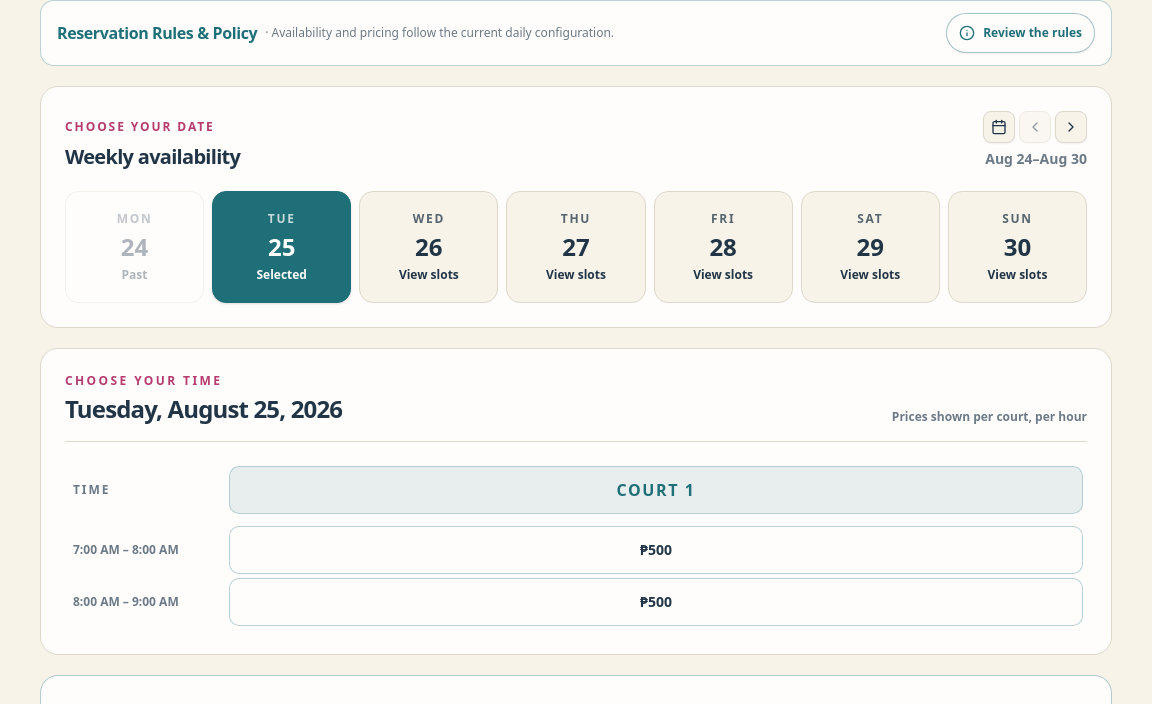
Test: ReservationExperience › selects an available date when moving to another week
Click the button named "Next week" at (1071, 127), box [1055,111,1087,143]
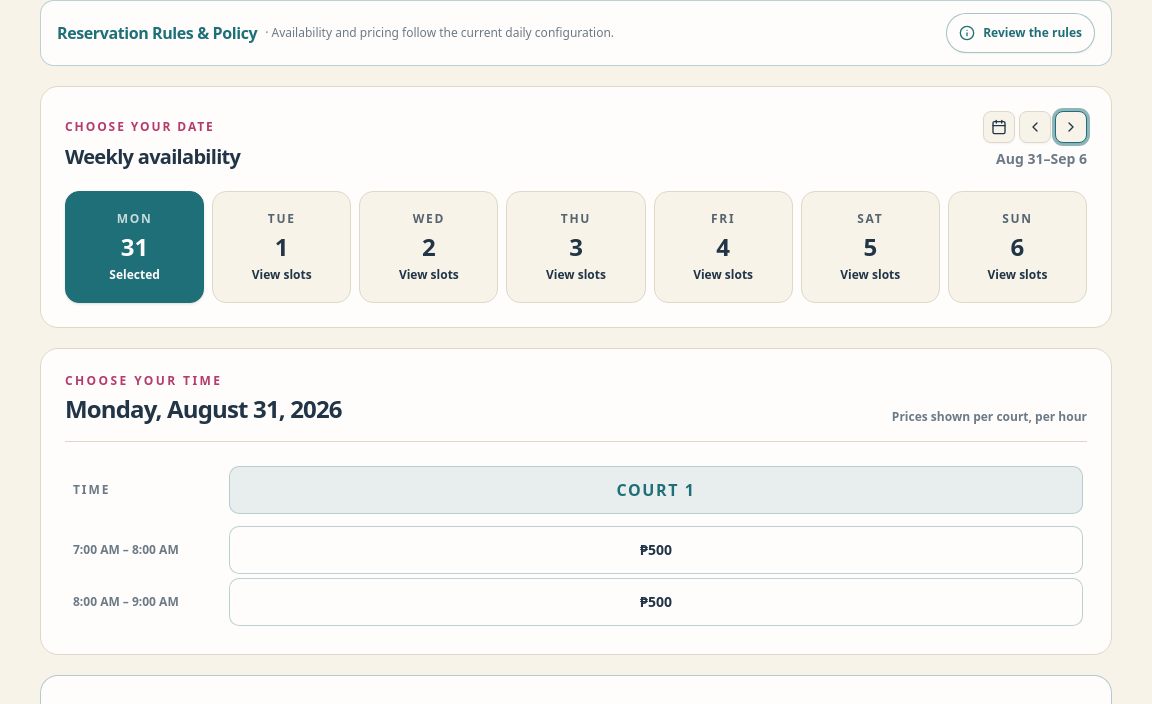
Expected: the heading "Monday, August 31, 2026" is shown, [65,393,342,425]
